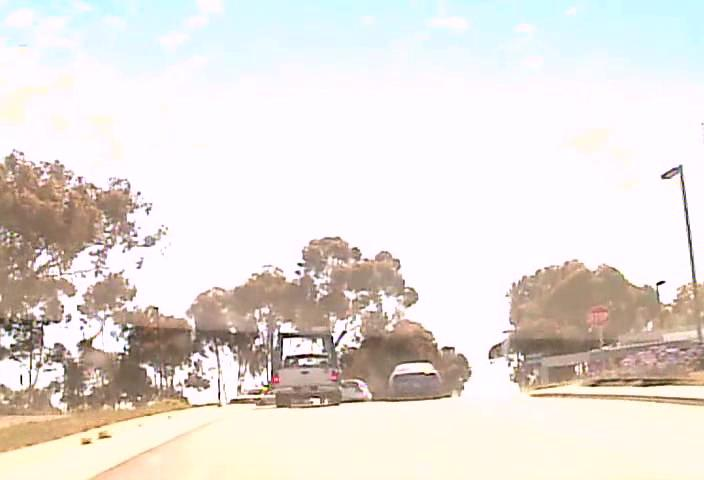stop: (588, 305, 610, 326)
